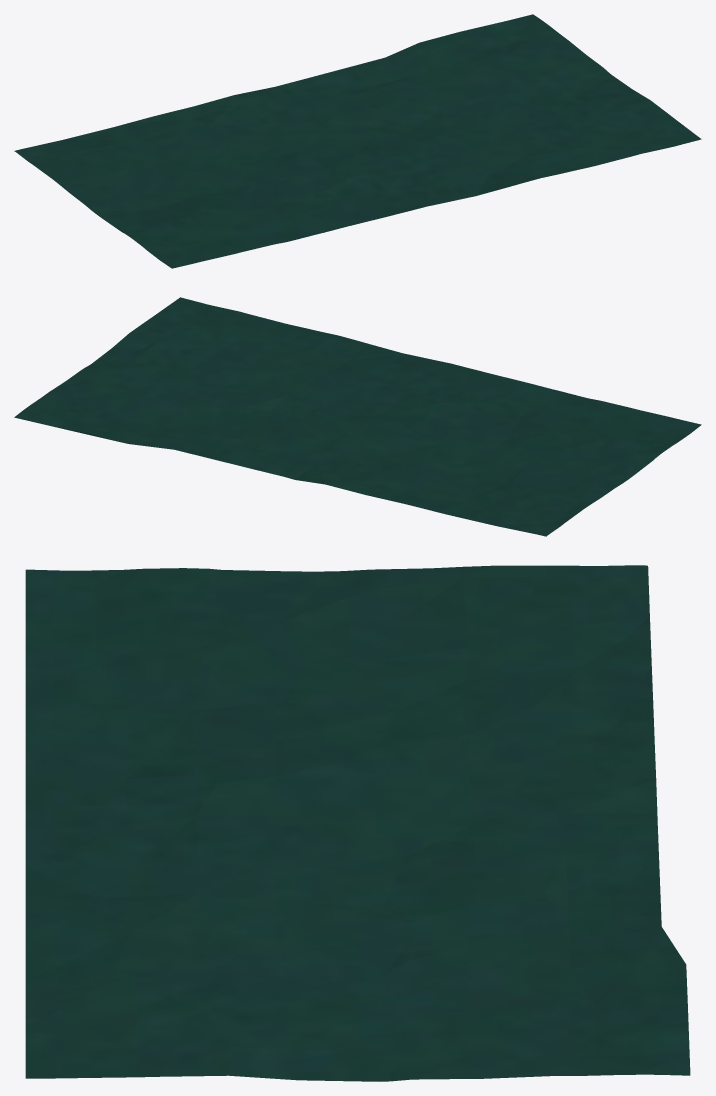
The picture shows the model from 3 angles, top to bottom: view 1: azimuth 30°, elevation 25°; view 2: azimuth 150°, elevation 25°; view 3: azimuth 270°, elevation 25°; orthographic projection. The views are drawn at different scales.
Bounding box in the file's own units: 52.22 × 0.4827 × 28.82.
Materials: 2 (2 with a texture image).
